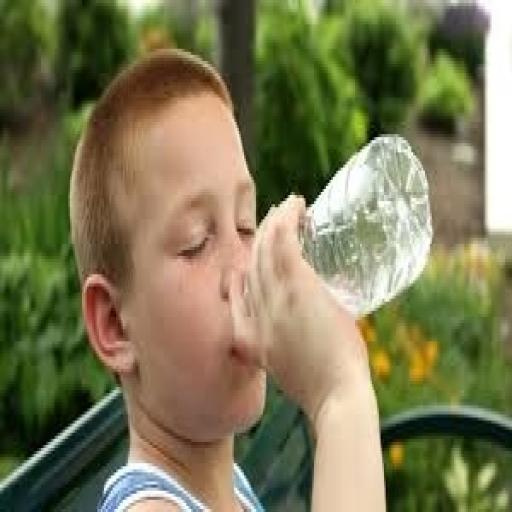drinking: (296, 131, 434, 320)
